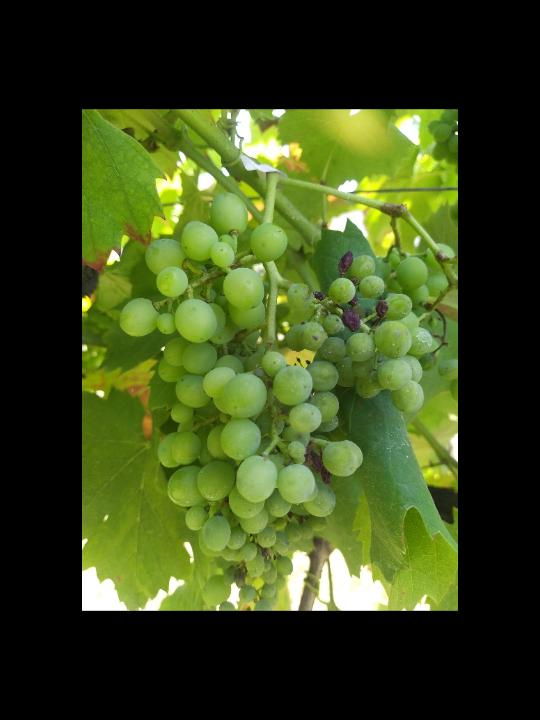grape: (117, 186, 439, 602)
